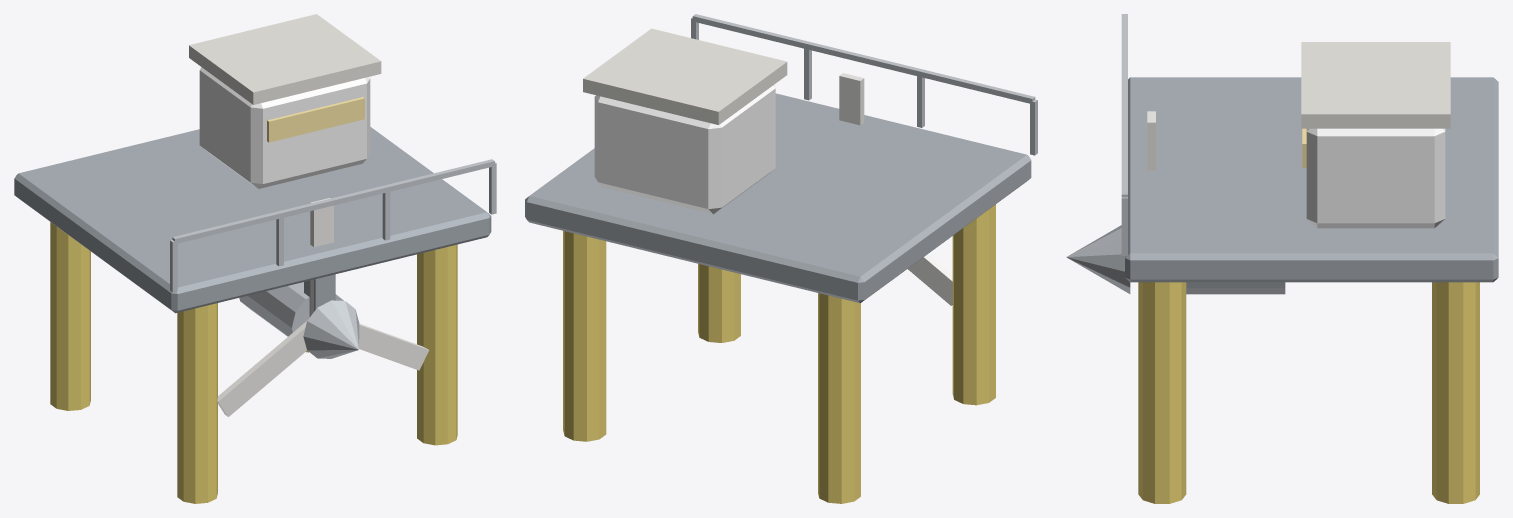
The model's file is tidal.glb.
3 views of the same model, side by side, from view 1: azimuth 30°, elevation 25°; view 2: azimuth 150°, elevation 25°; view 3: azimuth 270°, elevation 25° (orthographic). The views are drawn at different scales.
Parts seen in each view (by area): view 1: main, blades; view 2: main, blades; view 3: main, blades.
Boxes of the visible parts, left/top/right/bottom form: main: left=14, top=14, right=496, bottom=503; blades: left=217, top=198, right=429, bottom=416; main: left=525, top=14, right=1037, bottom=503; blades: left=839, top=73, right=952, bottom=305; main: left=1121, top=14, right=1498, bottom=503; blades: left=1066, top=111, right=1155, bottom=293.
Size of the model in its own units: 0.81 by 0.79 by 0.81.
